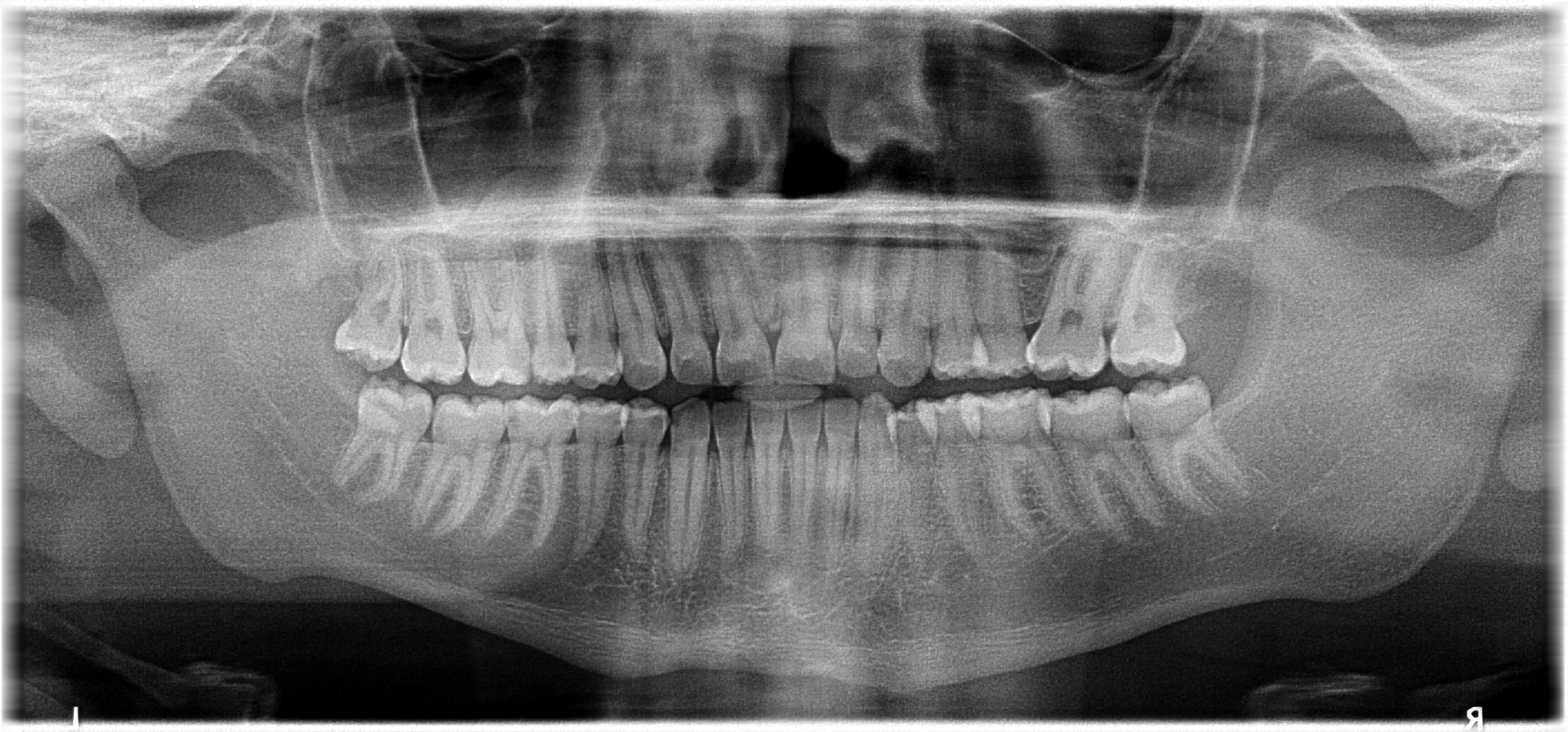Premolars: (303, 239, 936, 652), (346, 210, 984, 598), (298, 198, 864, 583)
